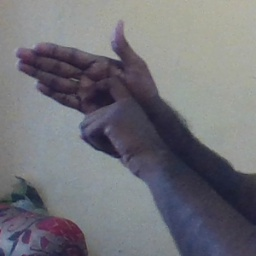R: (16, 14, 167, 159)
